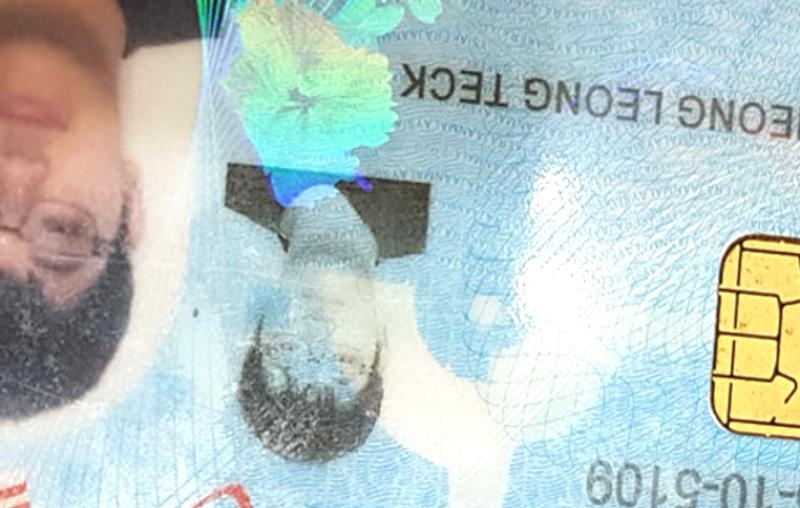hologramB: (215, 1, 382, 167)
